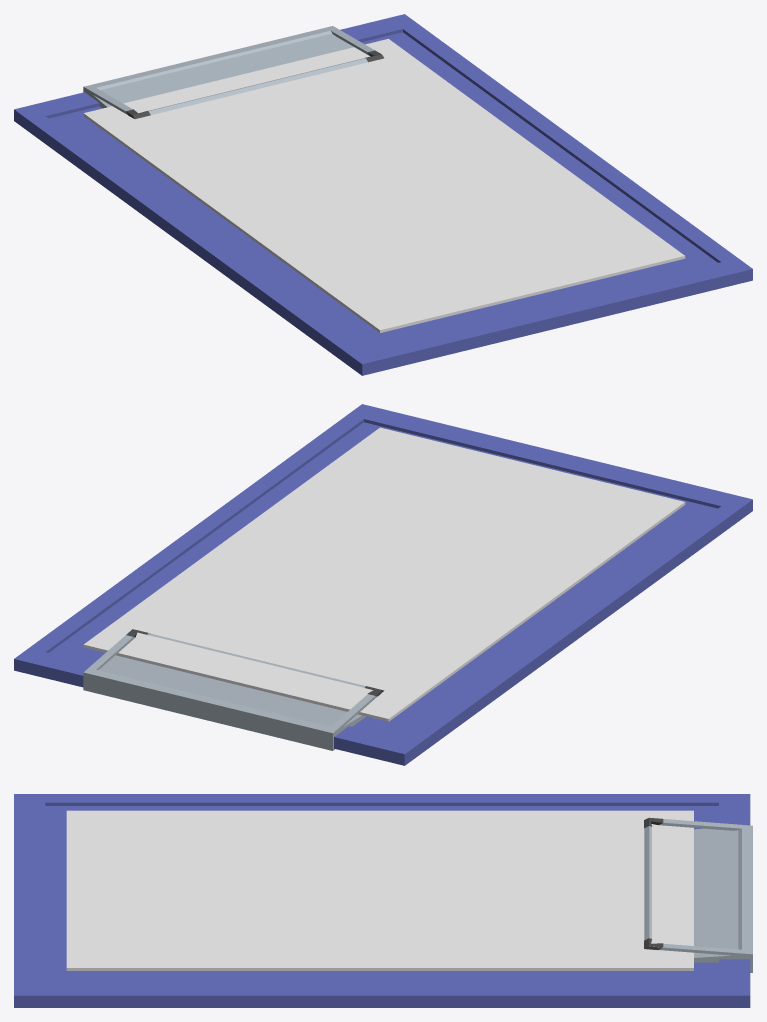
File: Sopansa_Clipboard.fbx
3 views of the same model, one above another, from view 1: azimuth 30°, elevation 25°; view 2: azimuth 150°, elevation 25°; view 3: azimuth 270°, elevation 25° (orthographic). The views are drawn at different scales.
Visible parts, largest first — view 1: Clipboard_Clipper; view 2: Clipboard_Clipper; view 3: Clipboard_Clipper.
Part boxes in pixels (x1,y1,x2,y2): Clipboard_Clipper: [14, 14, 752, 375]; Clipboard_Clipper: [14, 404, 752, 765]; Clipboard_Clipper: [14, 794, 752, 1007].
Bounding box in the file's own units: 313 × 19.32 × 485.
